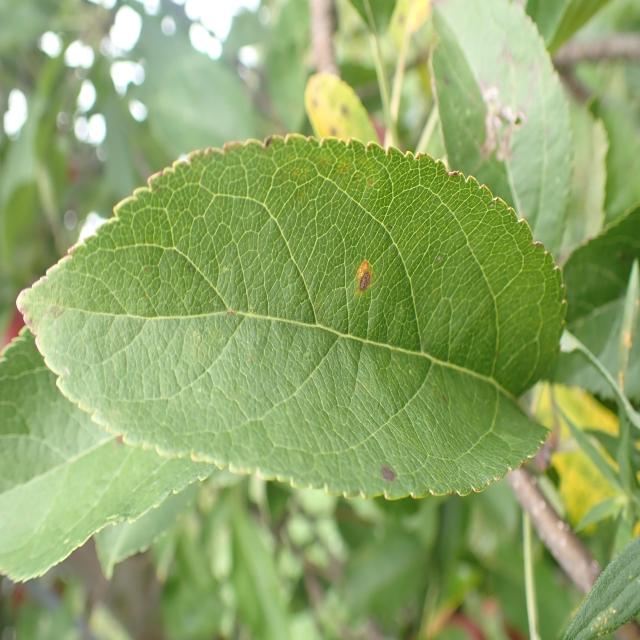rust: (16, 133, 570, 501)
